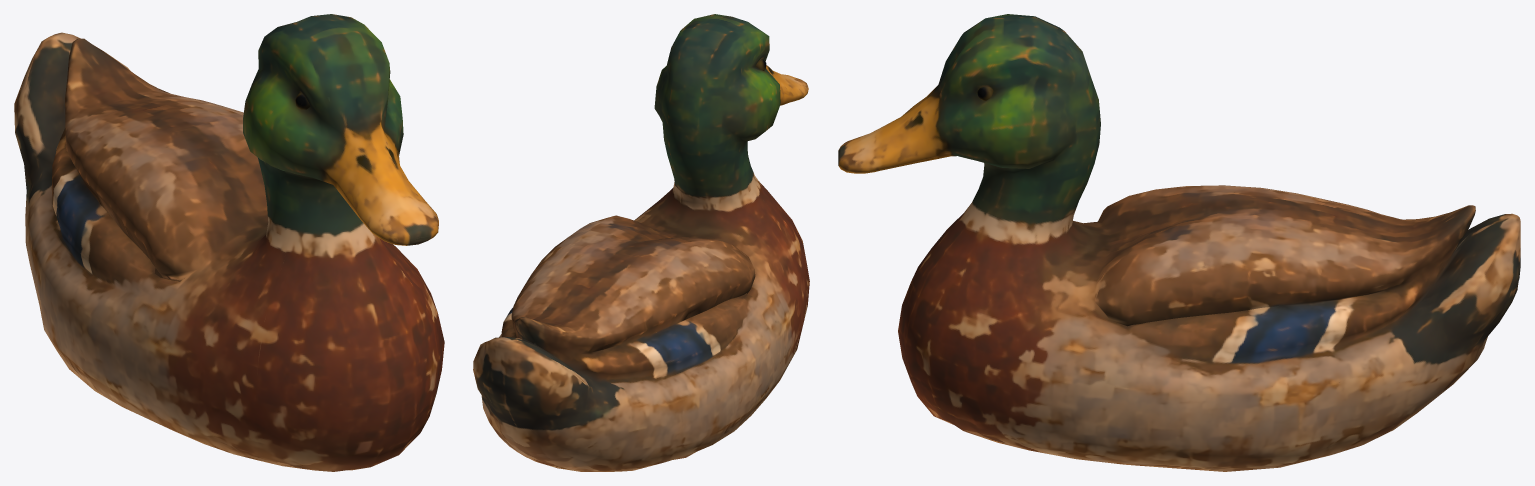
Rendered from duck_decoy.glb.
3 views of the same model, side by side, from view 1: azimuth 30°, elevation 25°; view 2: azimuth 150°, elevation 25°; view 3: azimuth 270°, elevation 25° (orthographic). The views are drawn at different scales.
Visible parts, largest first — view 1: geometry_0; view 2: geometry_0; view 3: geometry_0.
Boxes of the visible parts, x1,y1,x2,y2 form: geometry_0: [14, 14, 444, 471]; geometry_0: [473, 14, 809, 471]; geometry_0: [838, 14, 1520, 471].
Bounding box in the file's own units: 0.454 × 0.6759 × 1.
Materials: 1 (1 with a texture image).
